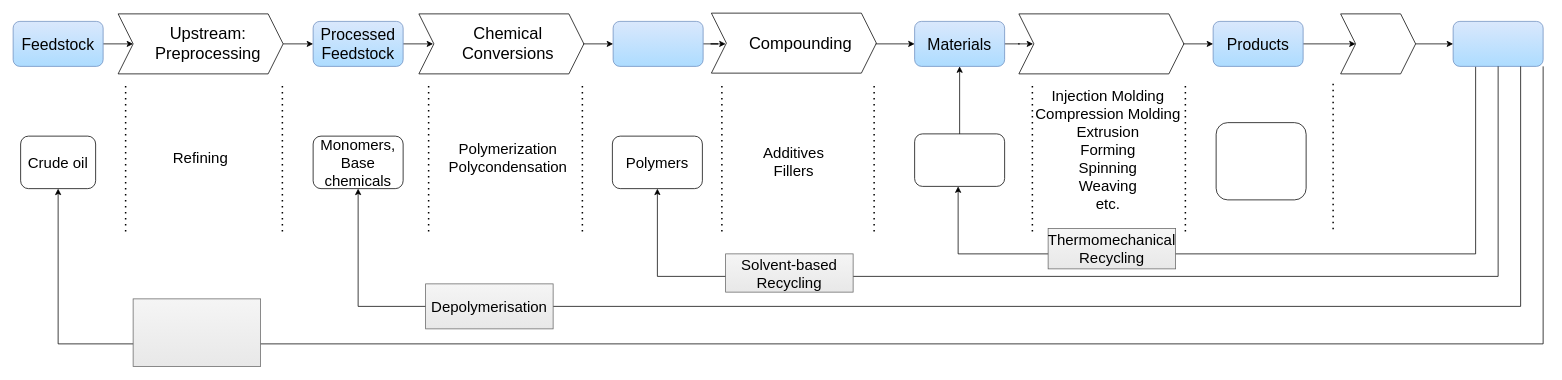
Some shapes in this 1562 by 380 pixel diagram are drawn without their labels. Each missing label, with the box of its shape:
Compound: (914, 133, 1005, 186)
EoL: (1452, 21, 1543, 66)
Feedstock Recycling (Cracking): (132, 298, 261, 366)
Films Composites Fibres Textiles: (1215, 122, 1306, 200)
Manufacturing: (1018, 13, 1184, 74)
Molecules: (612, 21, 703, 66)
Use: (1340, 13, 1416, 74)
